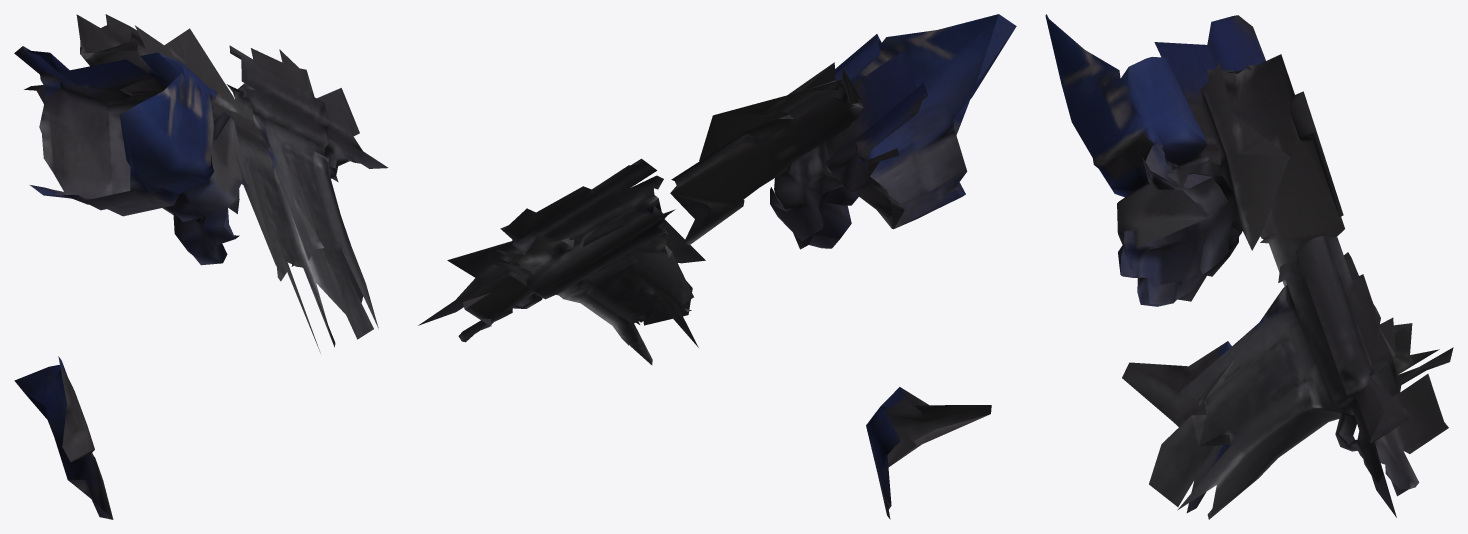
Rendered from blue_arm_right_lower.glb.
3 views of the same model, side by side, from view 1: azimuth 30°, elevation 25°; view 2: azimuth 150°, elevation 25°; view 3: azimuth 270°, elevation 25° (orthographic). The views are drawn at different scales.
Parts seen in each view (by area): view 1: blue_arm_right_lower; view 2: blue_arm_right_lower; view 3: blue_arm_right_lower.
Part boxes in pixels (bbox=[...]): blue_arm_right_lower: bbox=[14, 14, 388, 519]; blue_arm_right_lower: bbox=[418, 14, 1016, 519]; blue_arm_right_lower: bbox=[1045, 14, 1453, 519].
Size of the model in its own units: 1.83 by 1.81 by 1.41.
1 material, 1 textured.
